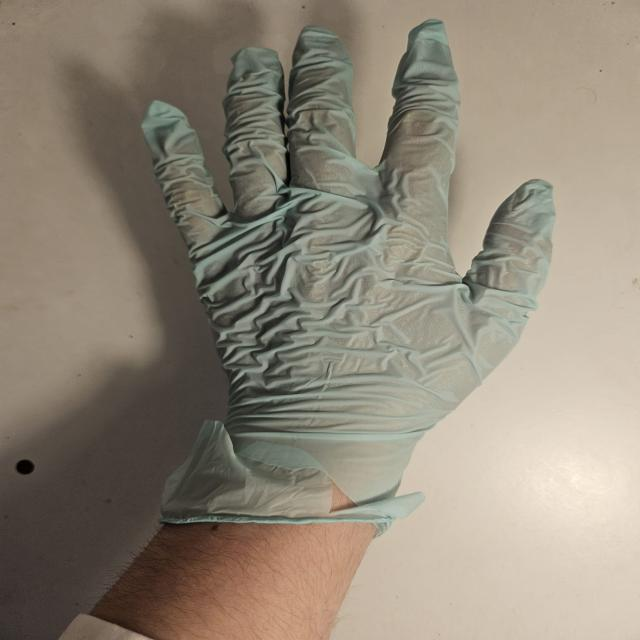gloves_damaged: (138, 14, 558, 526)
